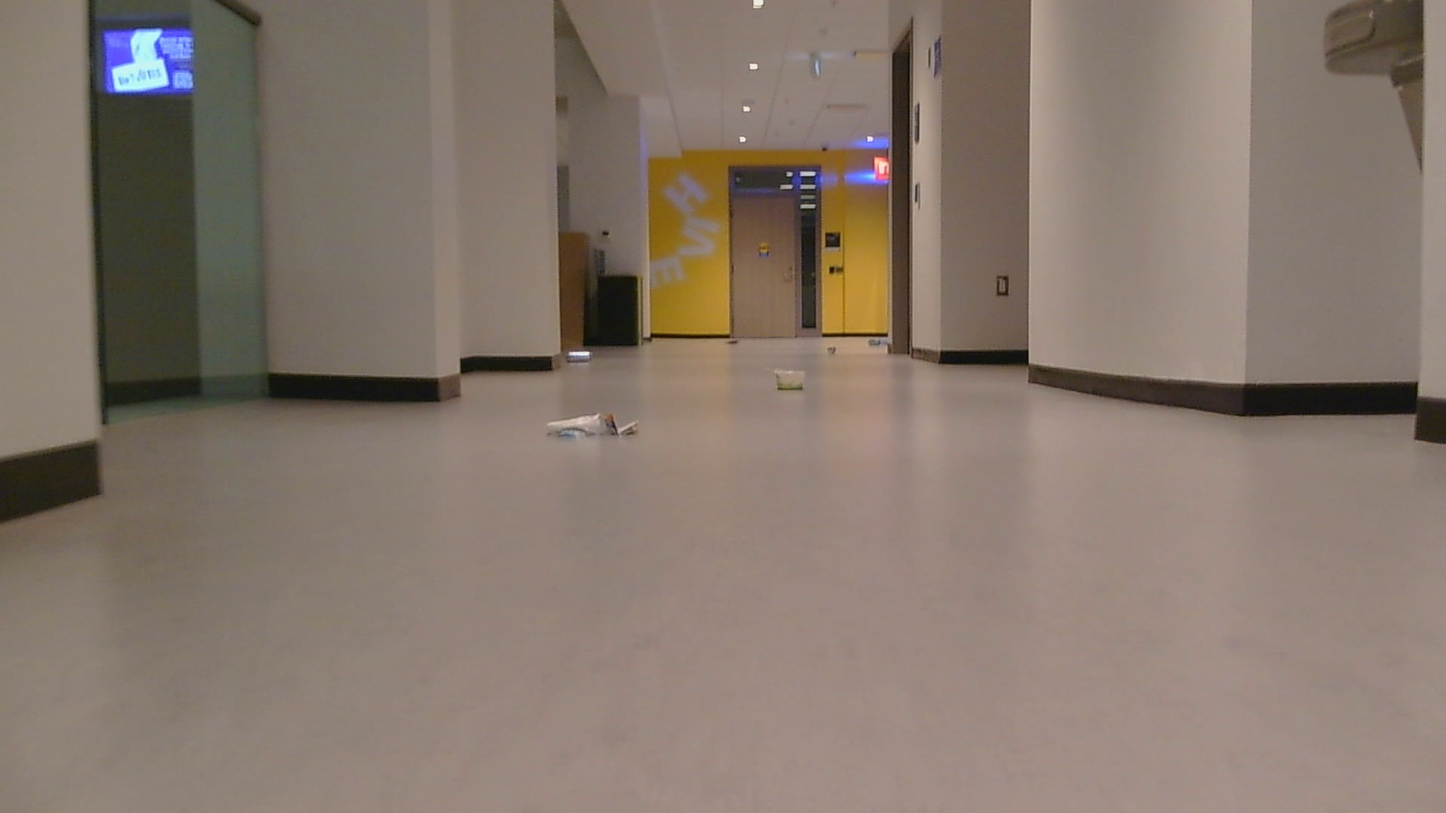carton: (544, 402, 652, 446), (768, 364, 820, 397), (568, 343, 614, 373), (718, 325, 755, 348), (872, 331, 897, 353), (825, 340, 854, 357)
